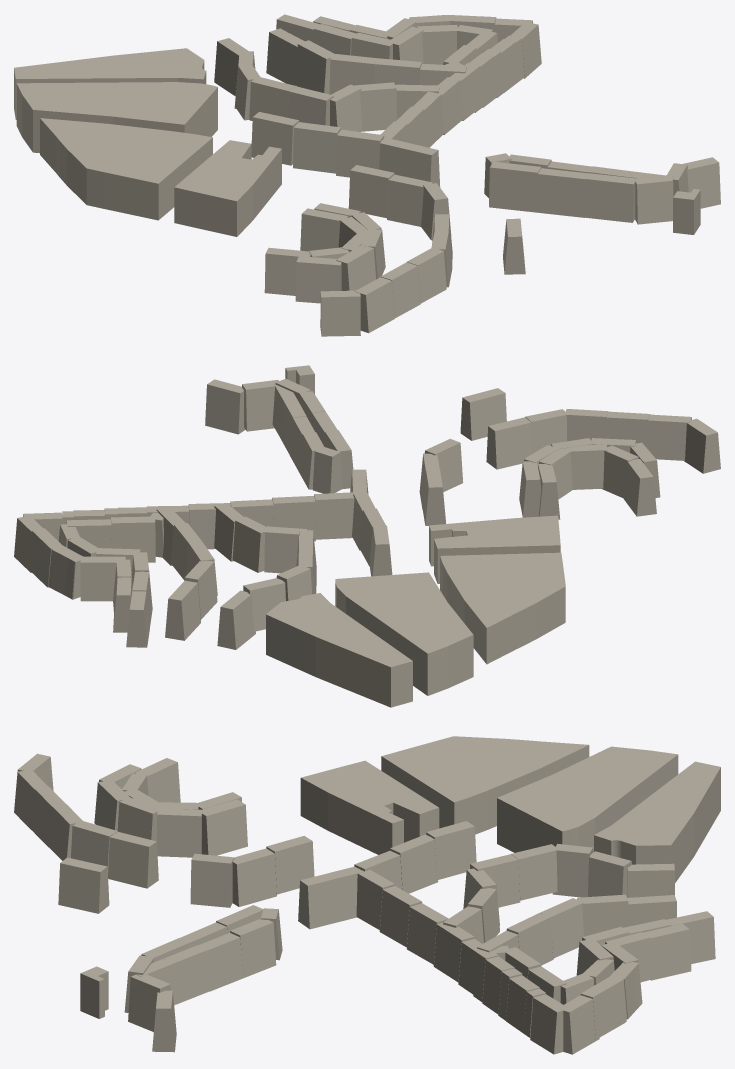
The model's file is bormla_62_26_mid.glb.
3 views of the same model, one above another, from view 1: azimuth 30°, elevation 25°; view 2: azimuth 150°, elevation 25°; view 3: azimuth 270°, elevation 25° (orthographic). The views are drawn at different scales.
Visible parts, largest first — view 1: geometry_0; view 2: geometry_0; view 3: geometry_0.
Boxes of the visible parts, x1,y1,x2,y2 form: geometry_0: [14, 14, 720, 336]; geometry_0: [14, 365, 720, 707]; geometry_0: [14, 736, 720, 1054].
Size of the model in its own units: 163 by 18.14 by 186.
